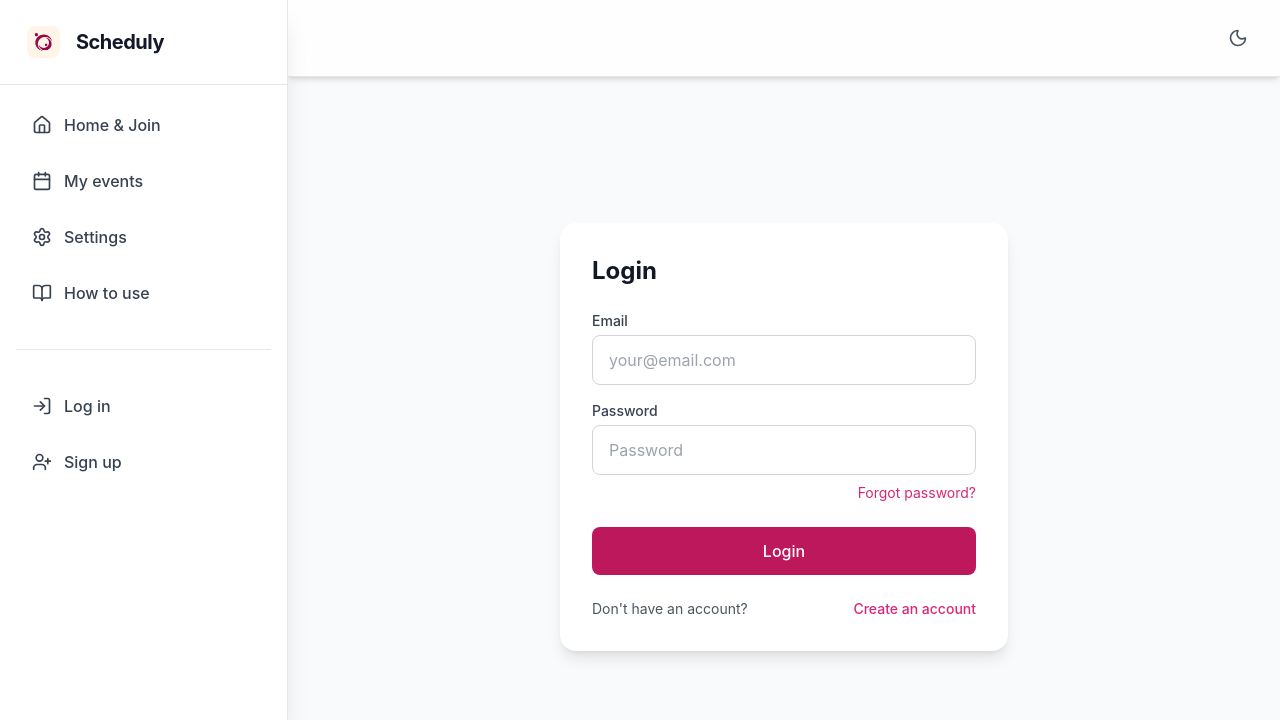
Test case: Authentication › should show error with invalid credentials
Type "wrong@email.com" into the field with placeholder "your@email.com" at (784, 360), box [592,335,976,385]
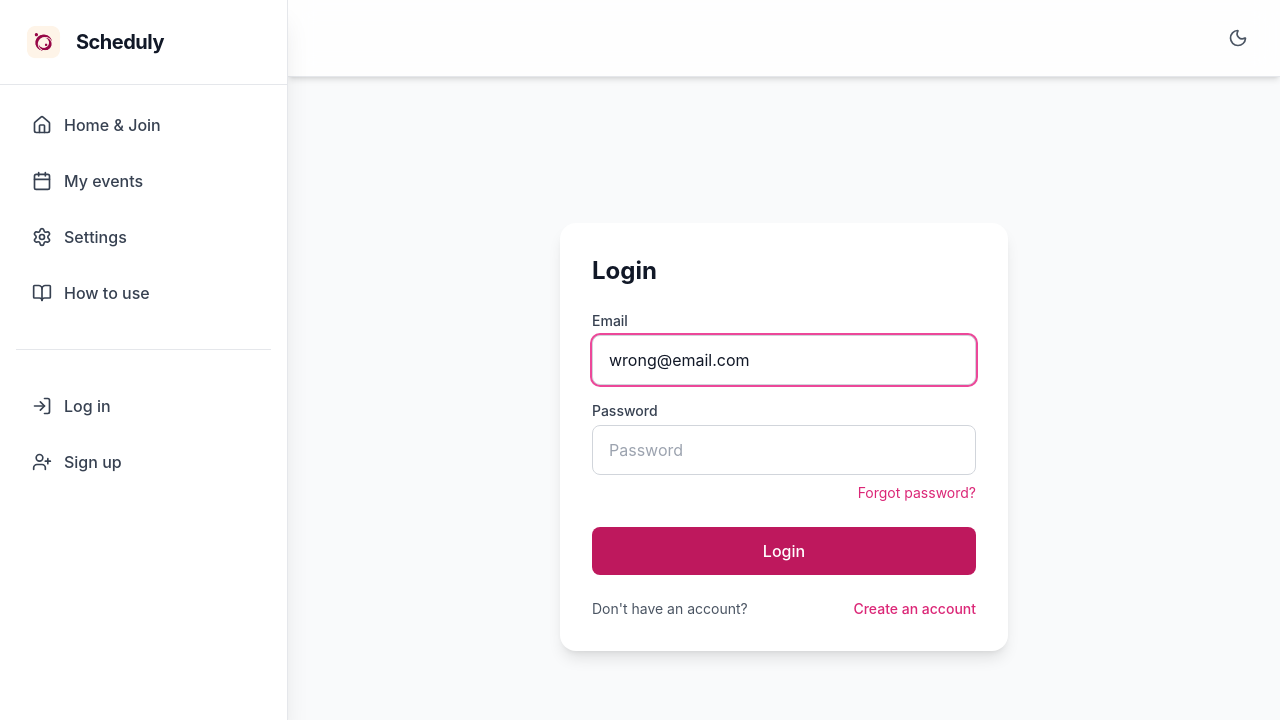
Type "wrongpassword" into the password field with placeholder "Password" at (784, 450), box [592,425,976,475]
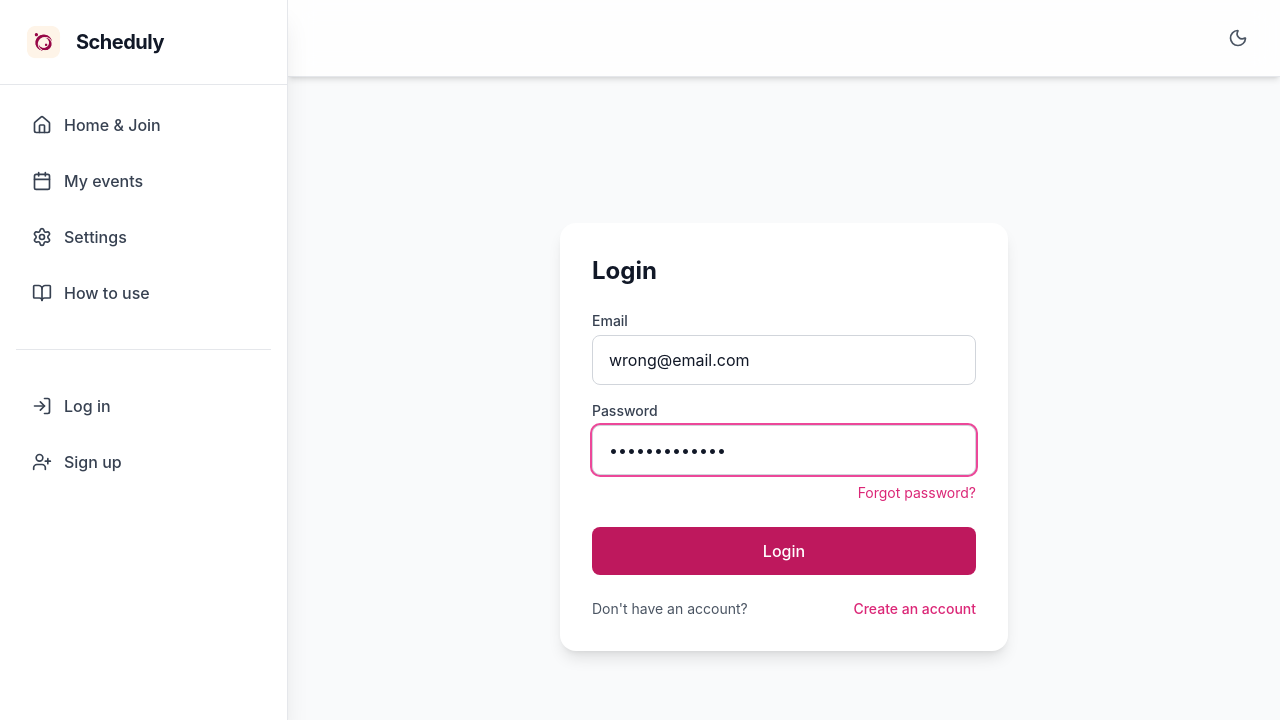
Click the button "Login" at (784, 551), box [592,527,976,575]
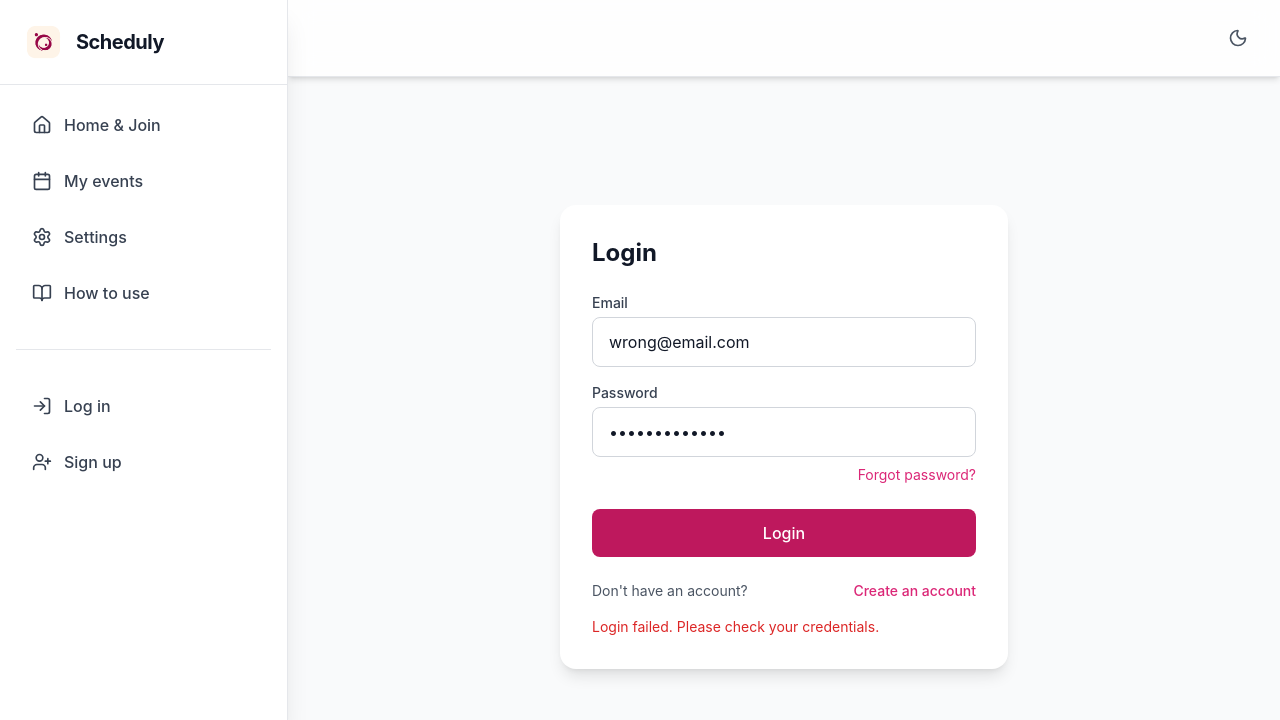
Check: the text "Login failed" is shown, box [592,618,879,635]
